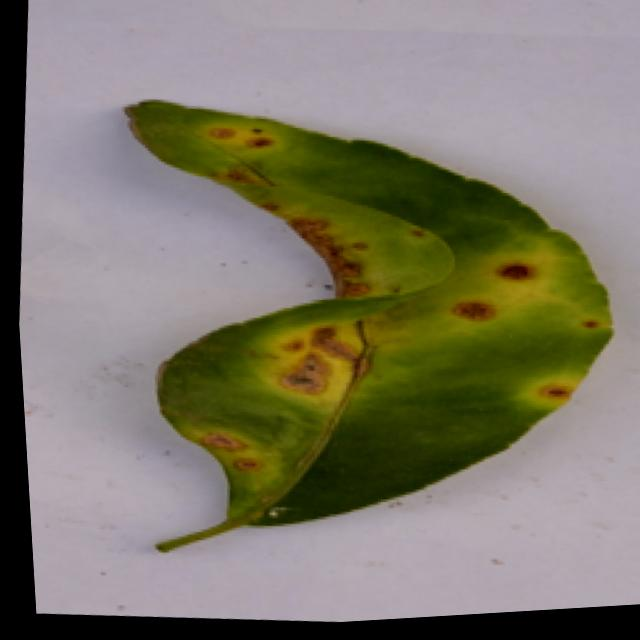canker: (128, 102, 607, 549), (284, 207, 391, 338), (252, 308, 370, 416), (439, 234, 546, 352), (192, 115, 291, 202), (176, 413, 264, 502), (526, 362, 589, 417)
